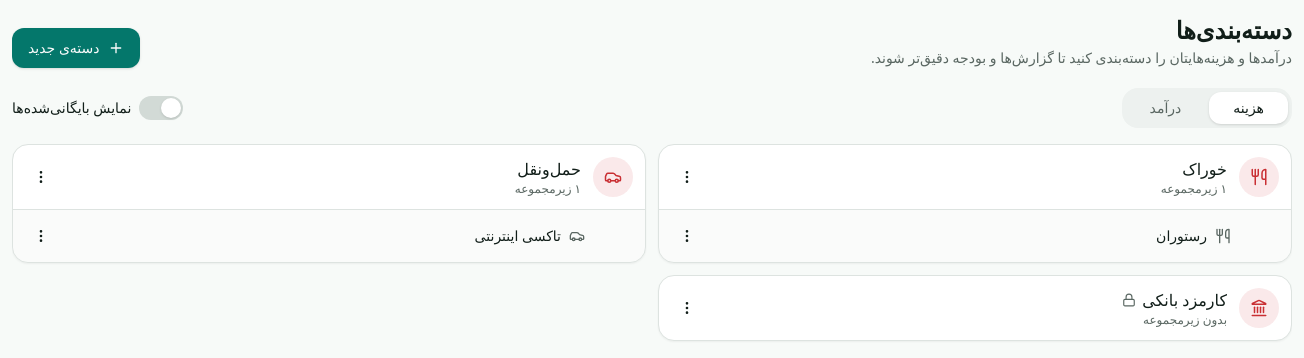
it: CategoriesPage › lists expense categories as a two-level tree and switches to income
Expected: the text "خوراک" is shown, x1=1182 y1=157 x2=1227 y2=181
Expected: the text "رستوران" is shown, x1=1156 y1=226 x2=1207 y2=245
Click the tab "درآمد".
click(1165, 108)  # box x1=1126 y1=92 x2=1205 y2=124
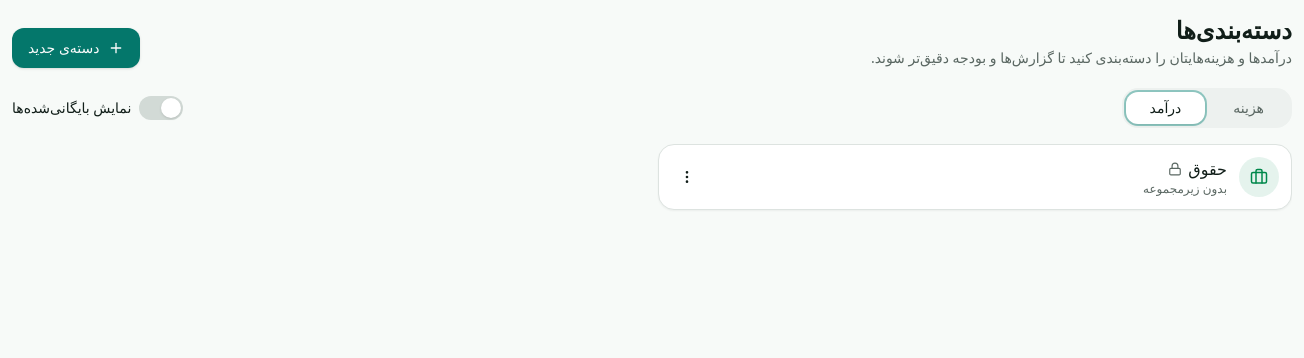
Now the text "حقوق" is shown, box x1=1188 y1=157 x2=1227 y2=181
Now the text "خوراک" is gone
